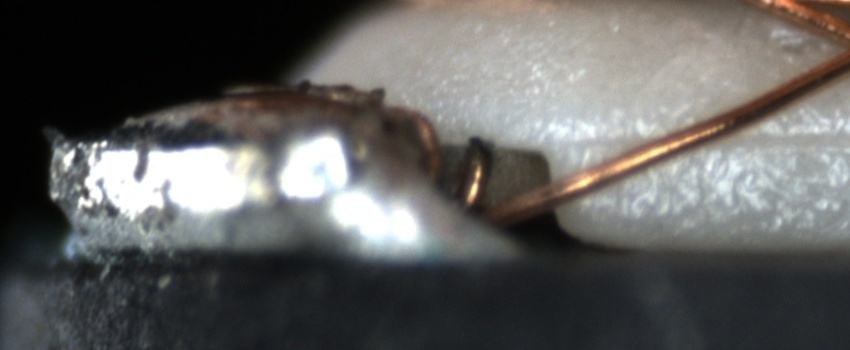DL: (582, 108, 849, 163)
TE: (397, 103, 488, 215)
